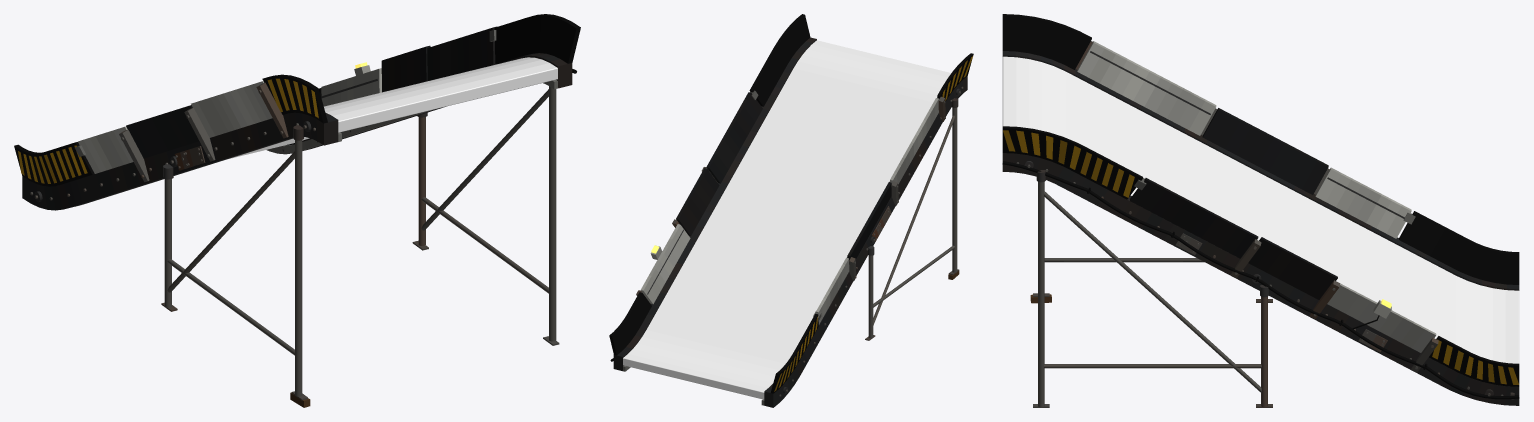
The model's file is conveyor_slope_down.glb.
The picture shows the model from 3 angles, left to right: view 1: azimuth 30°, elevation 25°; view 2: azimuth 150°, elevation 25°; view 3: azimuth 270°, elevation 25°; orthographic projection. The views are drawn at different scales.
Parts seen in each view (by area): view 1: Frame, Belt; view 2: Belt, Frame; view 3: Frame, Belt.
Boxes of the visible parts, box(x1,y1,x2,y2) form: Frame: box(14, 14, 580, 407); Belt: box(229, 57, 557, 158); Belt: box(623, 40, 951, 399); Frame: box(609, 14, 973, 407); Frame: box(1002, 14, 1519, 407); Belt: box(1002, 56, 1519, 363).
Size of the model in its own units: 2.15 by 2.43 by 4.
